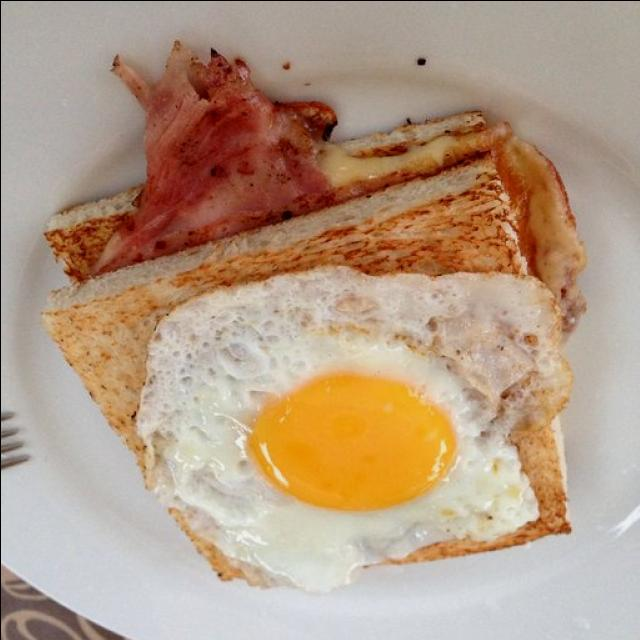telur ceplok: (131, 260, 581, 591)
